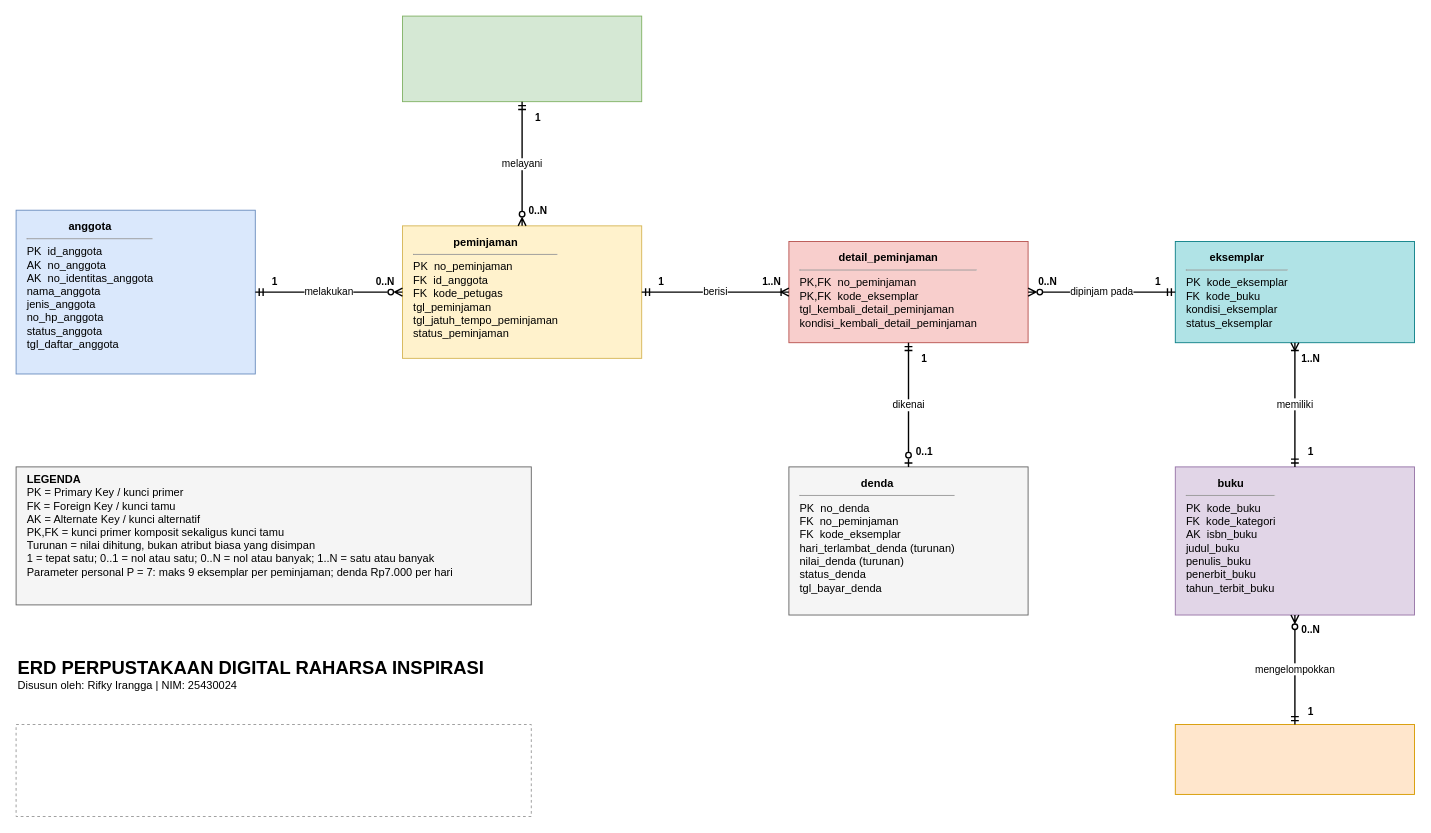
This 1431x833 diagram has some shape labels left out. Here are the shapes that lost their labels. From the top down, the centre of each, then its label:
At (522,58): "petugas PK kode_petugas nama_petugas peran_petugas".
At (273,770): "CATATAN TINJAUAN KLIEN 1. ... 2. ...".
At (1294,759): "kategori PK kode_kategori nama_kategori".
